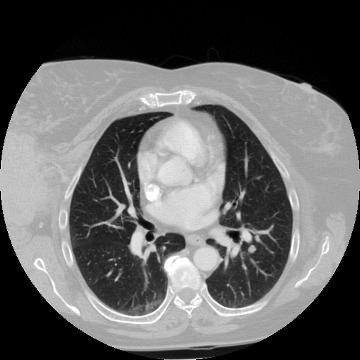nodule: (248, 245, 256, 253)
